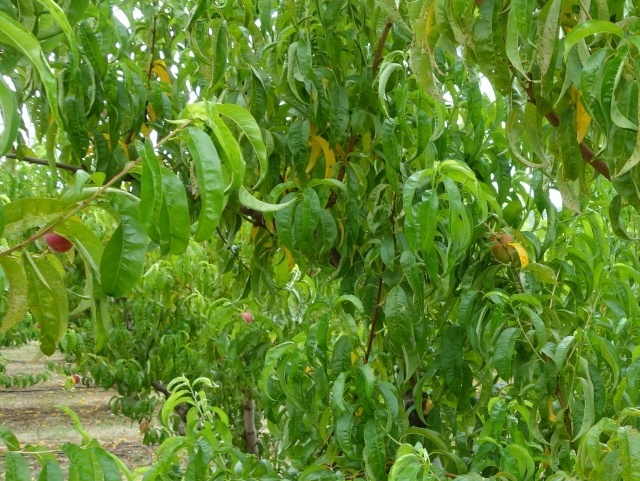peach: (483, 230, 516, 269), (40, 224, 77, 257)
